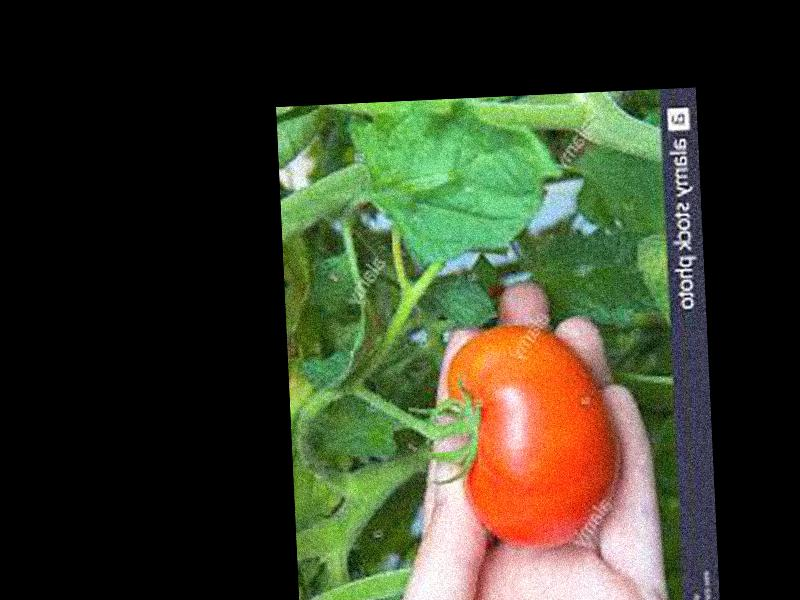Tomato: (445, 321, 618, 553)
